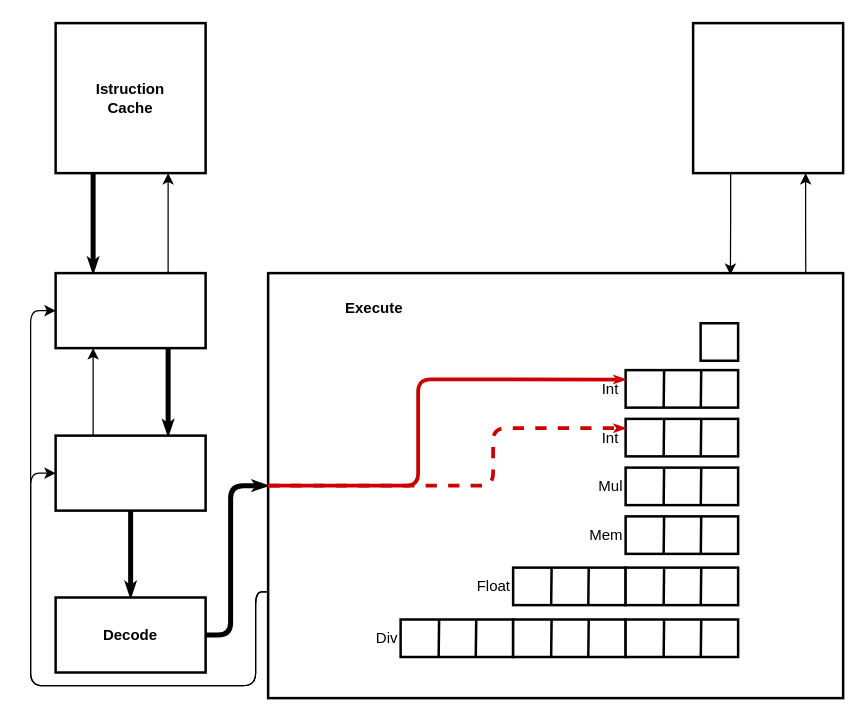
This 866x720 diagram has some shape labels left out. Each missing label, with the centre of its shape:
"Data Cache" goes at [767,97].
"Fetch1" goes at [130,310].
"Fetch2" goes at [130,472].
"Misc" goes at [719,341].
